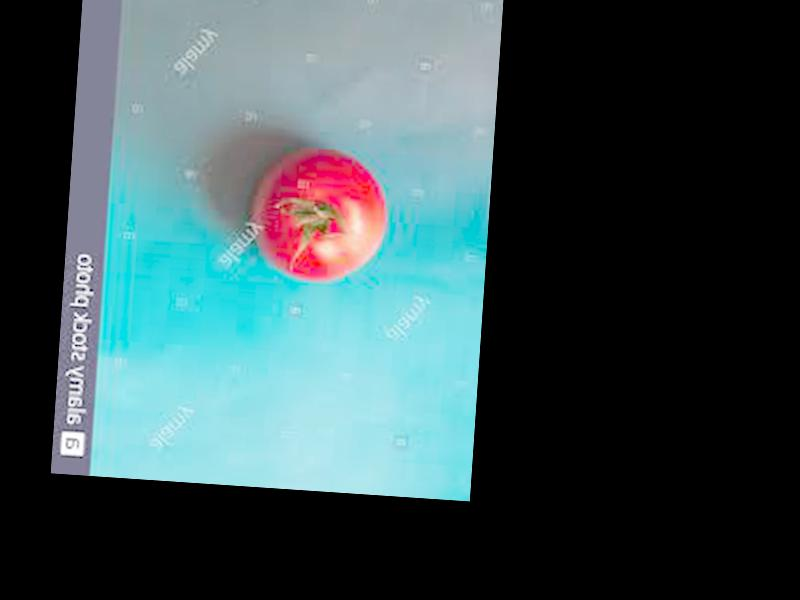Tomato: (247, 146, 391, 285)
